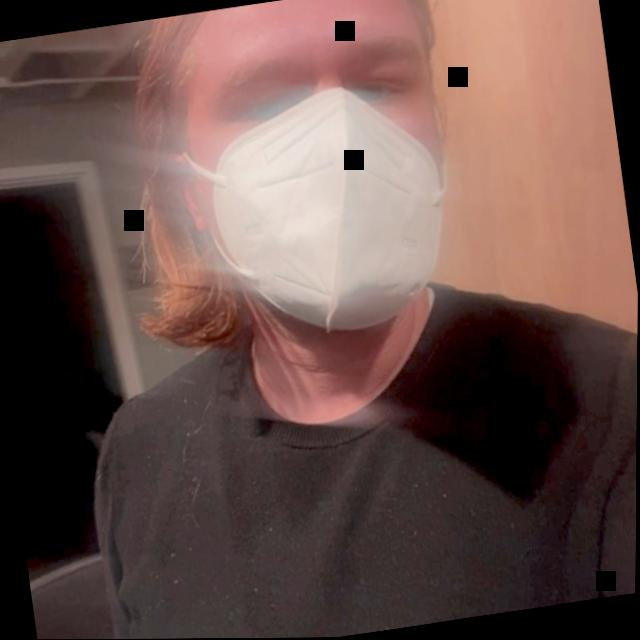Mask: (100, 0, 486, 372)
